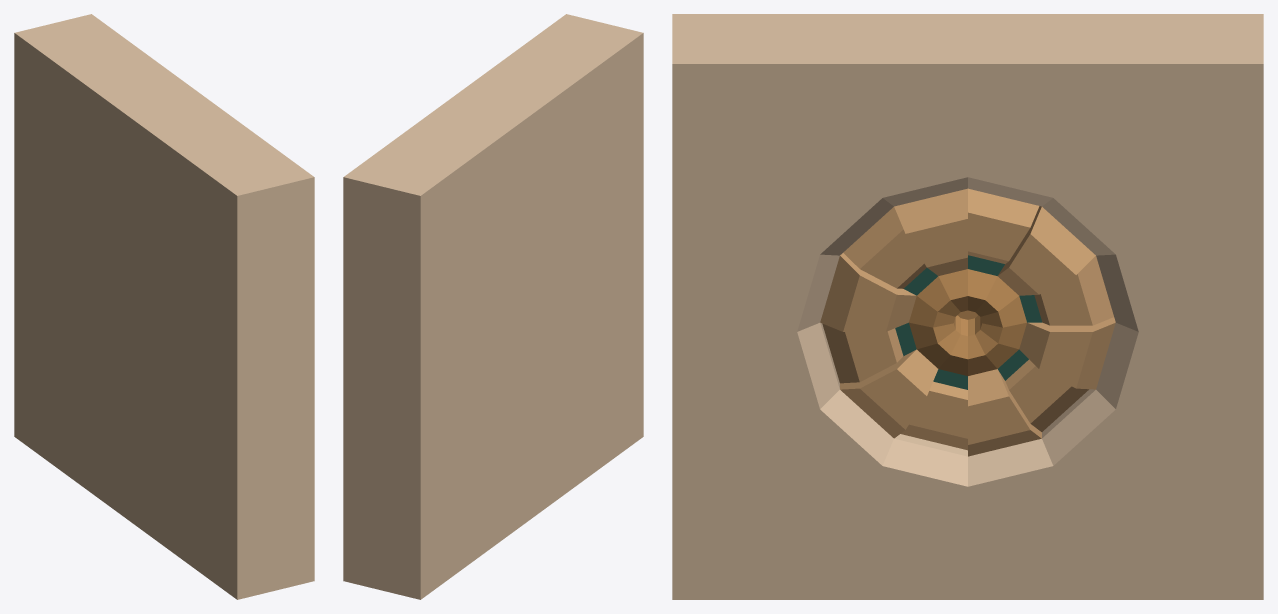
Rendered from Laser_receiver.glb.
The picture shows the model from 3 angles, left to right: view 1: azimuth 30°, elevation 25°; view 2: azimuth 150°, elevation 25°; view 3: azimuth 270°, elevation 25°; orthographic projection. The views are drawn at different scales.
Parts seen in each view (by area): view 1: mergedBlocks(Clone); view 2: mergedBlocks(Clone); view 3: mergedBlocks(Clone).
Part boxes in pixels (x1,y1,x2,y2): mergedBlocks(Clone): [14, 14, 314, 599]; mergedBlocks(Clone): [343, 14, 643, 599]; mergedBlocks(Clone): [672, 14, 1263, 599].
Bounding box in the file's own units: 0.6 × 3 × 3.
